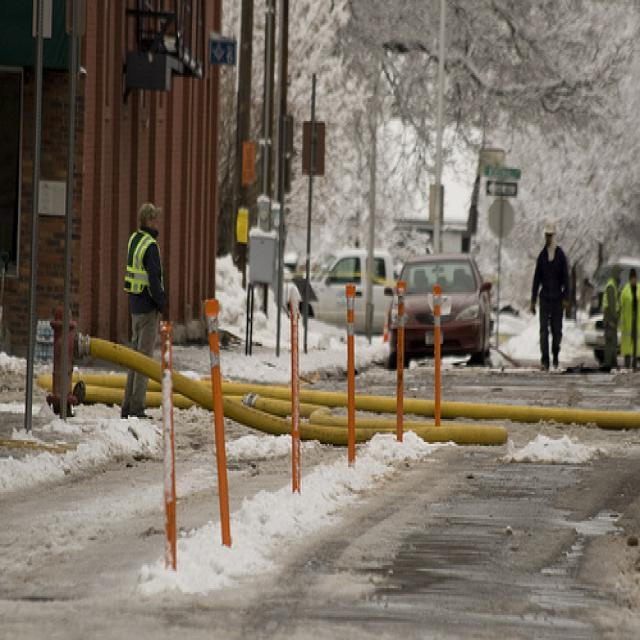fire_hydrant: (44, 302, 76, 412)
